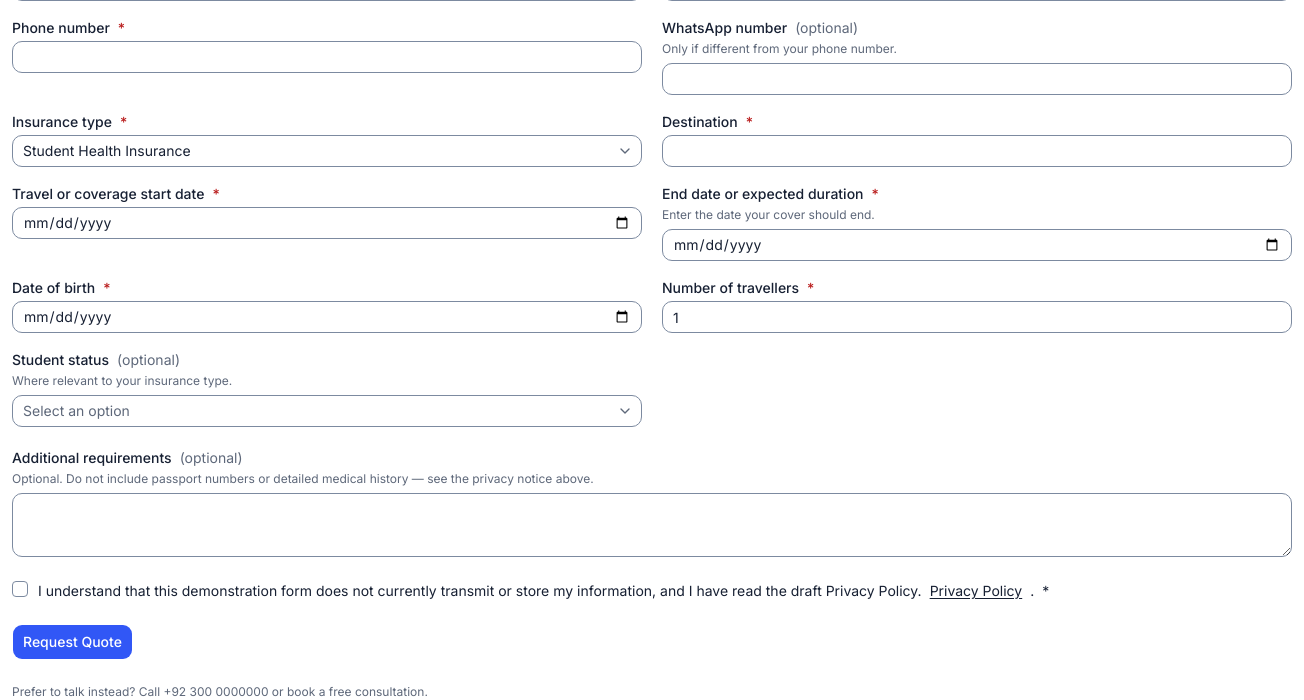
Test case: InsuranceQuoteForm › shows accessible inline errors and an error summary when submitted empty
(page scrolled)
Click the button "Request Quote" at (72, 642), box [12,624,133,660]
(page scrolled)
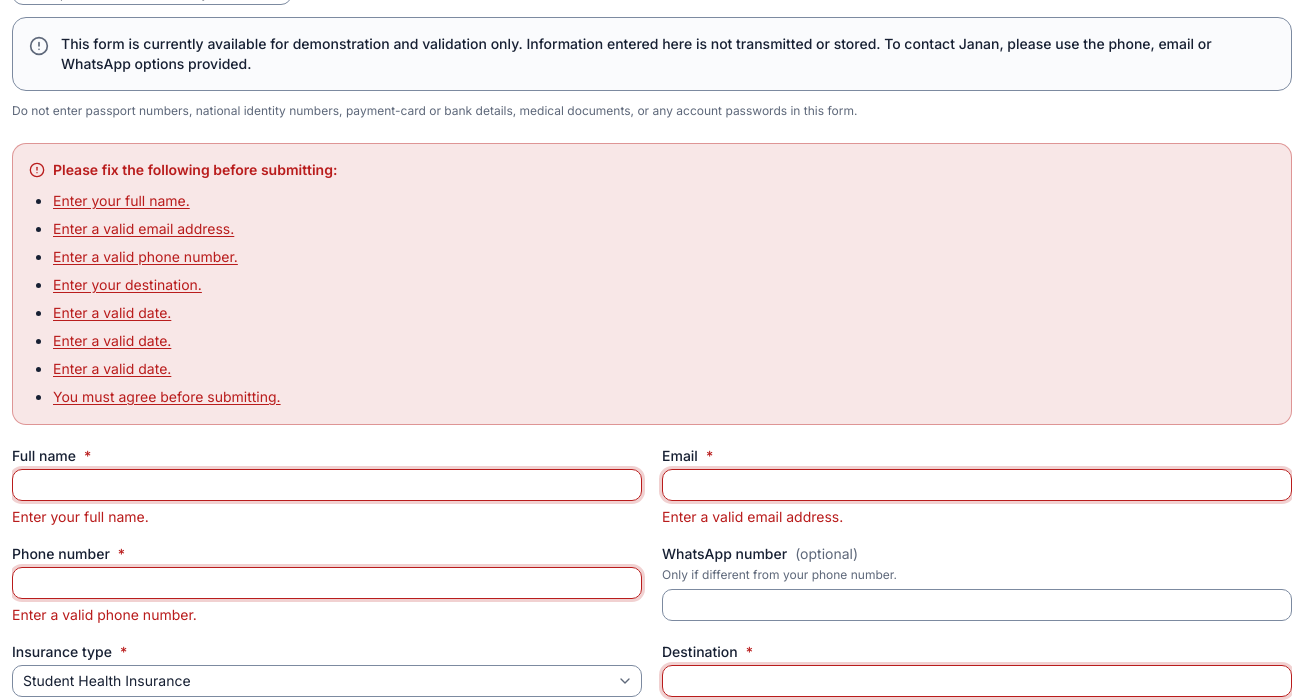
Now the message is shown, box [12,143,1292,425]
Now the link "Enter your full name." is shown, box [53,192,190,209]
Now the link "Enter a valid email address." is shown, box [53,220,234,237]
